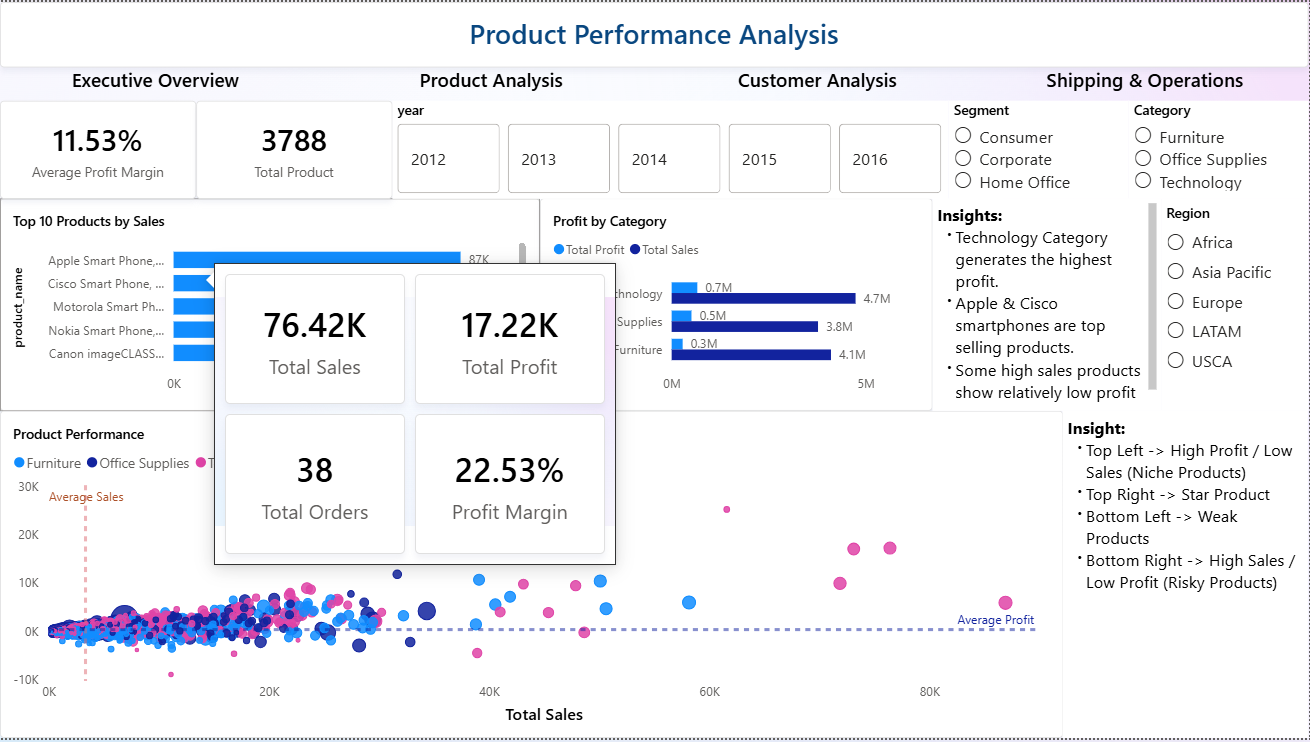

Layout of this report page (visuals, bound fields, positions):
{"tool":"powerbi","page":{"name":"Product Analysis","canvas":[1280,720],"ordinal":1},"visuals":[{"type":"barChart","title":"Top 10 Products by Sales","fields":{"Y":["BaseMeasures.Total Sales"],"Category":["dim_product.product_name"]},"box":[0,192,528,208],"z":0},{"type":"clusteredBarChart","title":"Profit by Category","fields":{"Category":["dim_product.category"],"Y":["BaseMeasures.Total Profit","BaseMeasures.Total Sales"]},"box":[528,192,384,208],"z":1000},{"type":"scatterChart","title":"Product Performance","fields":{"X":["BaseMeasures.Total Sales"],"Y":["BaseMeasures.Total Profit"],"Series":["dim_product.category"],"Size":["BaseMeasures.Total Quantity"],"Category":["dim_product.product_name"]},"box":[0,400,1040,320],"z":2000},{"type":"card","fields":{"Values":["BaseMeasures.Average Profit Margin"]},"box":[0,96,192,96],"z":3000},{"type":"card","fields":{"Values":["BaseMeasures.Total Product"]},"box":[192,96,192,96],"z":4000},{"type":"card","fields":{"Values":["BaseMeasures.Product Analysis Title"]},"box":[0,0,1280,64],"z":5000},{"type":"advancedSlicerVisual","fields":{"Values":["dim_date.year Hierarchy.year"]},"box":[384,96,544,96],"z":6000},{"type":"listSlicer","title":"Segment","fields":{"Values":["dim_customer.segment"]},"box":[928,96,176,96],"z":7000},{"type":"listSlicer","title":"Category","fields":{"Values":["dim_product.category"]},"box":[1104,96,176,96],"z":8000},{"type":"listSlicer","title":"Region","fields":{"Values":["dim_geo.region"]},"box":[1136,192,144,208],"z":9000},{"type":"textbox","box":[912,192,224,208],"z":10000},{"type":"textbox","box":[1040,400,240,320],"z":11000},{"type":"actionButton","title":"Executive Overview","box":[0,64,304,32],"z":11001},{"type":"actionButton","title":"Product Analysis","box":[320,64,320,32],"z":11002},{"type":"actionButton","title":"Customer Analysis","box":[640,64,320,32],"z":11003},{"type":"actionButton","title":"Shipping & Operations","box":[960,64,320,32],"z":11004}]}

Visuals, with their boxes in screenshot pixels (x1, y1, x2, y2), scaled from the page's 1280x720 canvas onto the 1310x742 screenshot:
"Top 10 Products by Sales" barChart: [0,198,540,412]
"Profit by Category" clusteredBarChart: [540,198,933,412]
"Product Performance" scatterChart: [0,412,1064,741]
card - BaseMeasures.Average Profit Margin: [0,99,196,198]
card - BaseMeasures.Total Product: [196,99,393,198]
card - BaseMeasures.Product Analysis Title: [0,0,1309,66]
advancedSlicerVisual - dim_date.year Hierarchy.year: [393,99,950,198]
"Segment" listSlicer: [950,99,1130,198]
"Category" listSlicer: [1130,99,1309,198]
"Region" listSlicer: [1163,198,1309,412]
textbox: [933,198,1163,412]
textbox: [1064,412,1309,741]
"Executive Overview" actionButton: [0,66,311,99]
"Product Analysis" actionButton: [328,66,655,99]
"Customer Analysis" actionButton: [655,66,982,99]
"Shipping & Operations" actionButton: [982,66,1309,99]
